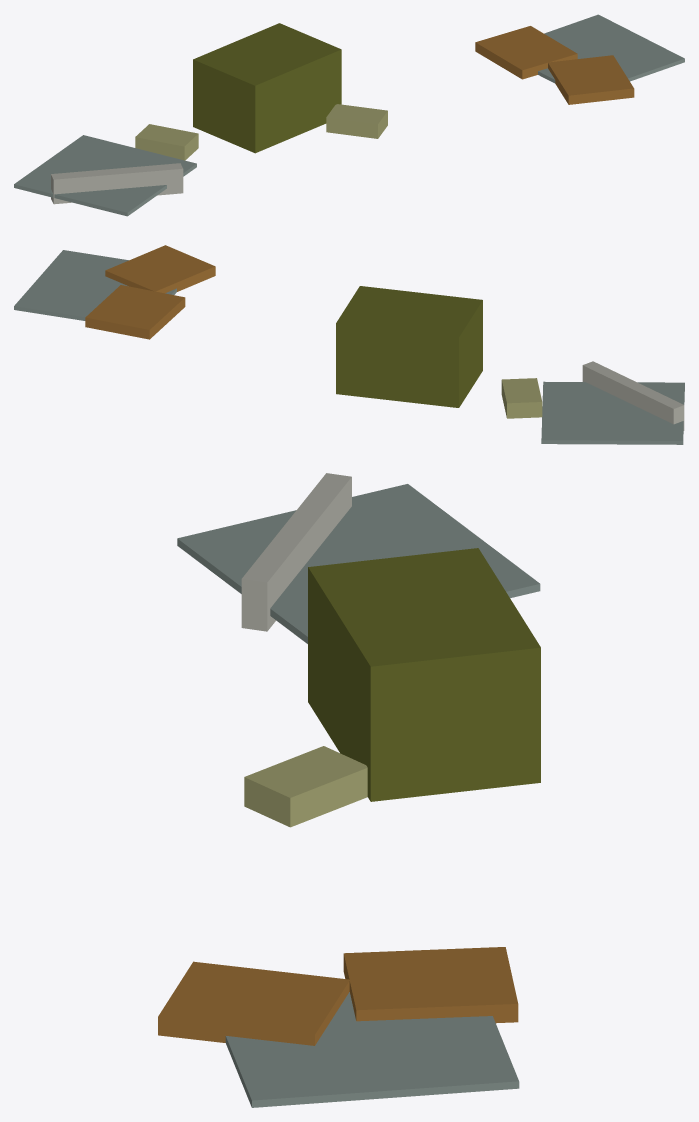
The model's file is SM_BarricadaCivil_v2_Vallas_e3_Brecha_LOD1.fbx.
3 renders of one model, top to bottom at view 1: azimuth 30°, elevation 25°; view 2: azimuth 150°, elevation 25°; view 3: azimuth 270°, elevation 25°, orthographic. The views are drawn at different scales.
Parts seen in each view (by area): view 1: SM_barricada_civil_v11_LOD1; view 2: SM_barricada_civil_v11_LOD1; view 3: SM_barricada_civil_v11_LOD1.
Part boxes in pixels (x1,y1,x2,y2): SM_barricada_civil_v11_LOD1: [14, 14, 684, 216]; SM_barricada_civil_v11_LOD1: [14, 245, 684, 444]; SM_barricada_civil_v11_LOD1: [158, 473, 540, 1107].
Size of the model in its own units: 10.77 by 1.2 by 2.83.
